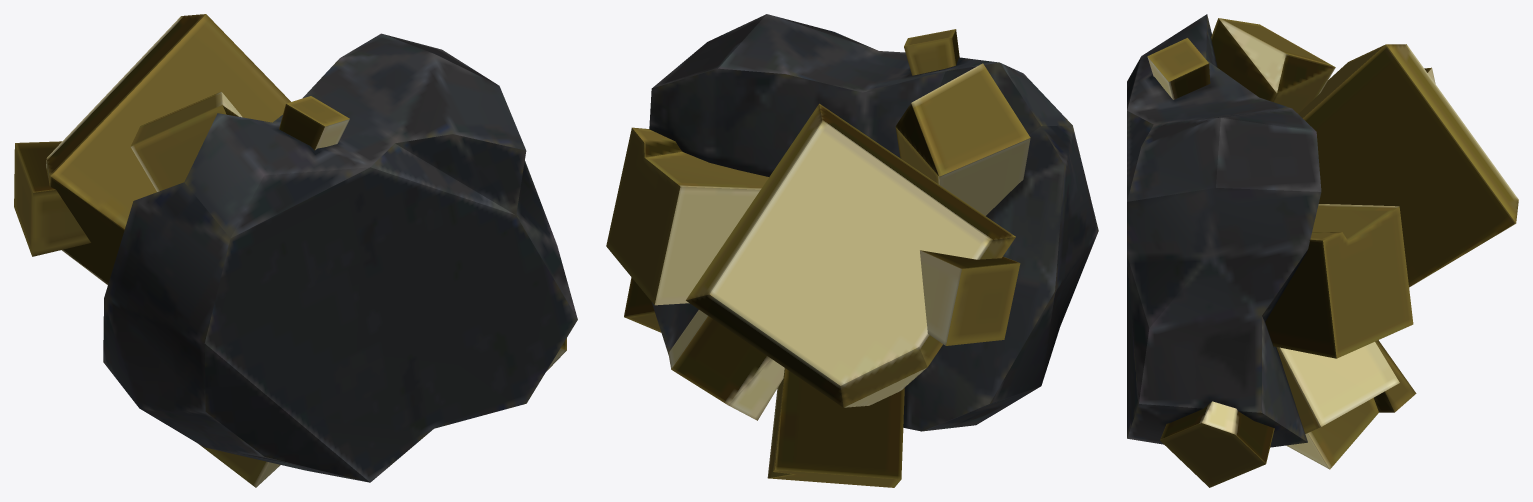
Rendered from top.glb.
3 views of the same model, side by side, from view 1: azimuth 30°, elevation 25°; view 2: azimuth 150°, elevation 25°; view 3: azimuth 270°, elevation 25° (orthographic). The views are drawn at different scales.
Visible parts, largest first — view 1: Root__Mt_Body, Root__Mt_Ore; view 2: Root__Mt_Ore, Root__Mt_Body; view 3: Root__Mt_Ore, Root__Mt_Body.
Part boxes in pixels (box(x1,y1,x2,y2)): Root__Mt_Body: box(103, 33, 577, 482); Root__Mt_Ore: box(14, 14, 566, 487); Root__Mt_Ore: box(606, 29, 1030, 487); Root__Mt_Body: box(649, 14, 1098, 431); Root__Mt_Ore: box(1147, 18, 1518, 487); Root__Mt_Body: box(1127, 14, 1321, 447).
Size of the model in its own units: 0.6294 by 0.5652 by 0.5044.
2 materials, 2 textured.
